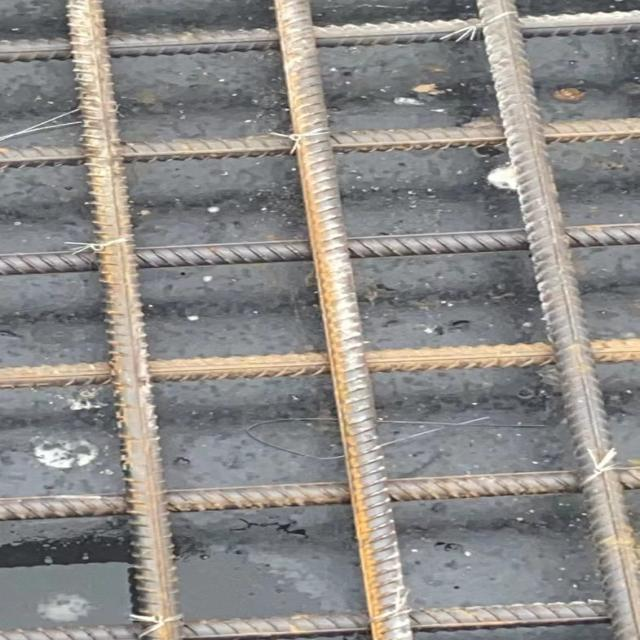ribbed bar: (476, 0, 639, 639), (272, 0, 414, 639), (66, 0, 183, 639), (0, 466, 638, 522), (0, 115, 638, 170), (0, 9, 638, 63), (0, 222, 638, 276), (0, 336, 638, 389), (0, 600, 609, 639)
